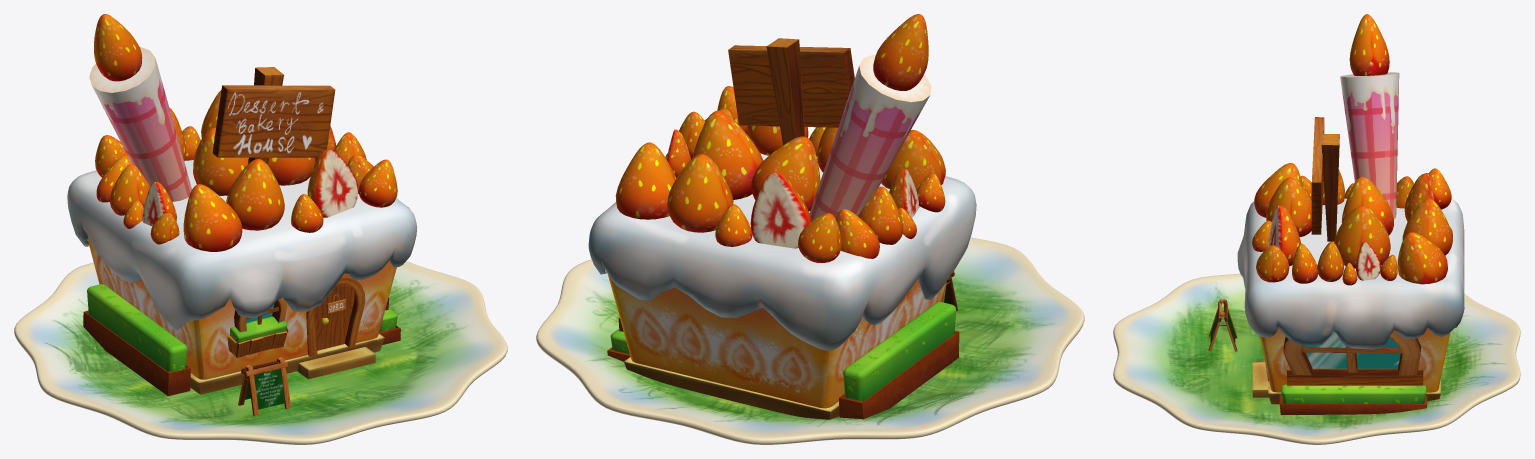
Rendered from mydessertshop.fbx.
3 views of the same model, side by side, from view 1: azimuth 30°, elevation 25°; view 2: azimuth 150°, elevation 25°; view 3: azimuth 270°, elevation 25° (orthographic). The views are drawn at different scales.
Visible parts, largest first — view 1: uv6, uv3, wall, polySurface50, pCylinder5, polySurface108 (×3), pCube26, polySurface104 (×2), polySurface107 (×2), polySurface110 (×3), side1, polySurface115 (+10 smaller); view 2: uv6, uv3, wall, pCylinder5, polySurface50, polySurface104 (×3), polySurface108 (×4), polySurface107 (×4), pCube26, polySurface114, polySurface115, pCube1 (+5 smaller); view 3: uv6, uv3, pCylinder5, polySurface104 (×4), polySurface108 (×3), pCube27, polySurface107 (×3), wall, polySurface114, polySurface86, polySurface115, polySurface47 (+9 smaller).
Part boxes in pixels (x1,y1,x2,y2): uv6: (14, 261, 507, 444); uv3: (67, 160, 417, 330); wall: (87, 237, 396, 379); polySurface50: (212, 85, 335, 157); pCylinder5: (89, 46, 191, 201); polySurface108 (×3): (110, 132, 366, 230); pCube26: (87, 284, 187, 371); polySurface104 (×2): (96, 155, 242, 251); polySurface107 (×2): (142, 149, 358, 226); polySurface110 (×3): (95, 135, 397, 244); side1: (83, 310, 190, 395); polySurface115: (94, 14, 142, 81); uv6: (536, 237, 1084, 444); uv3: (588, 153, 976, 350); wall: (607, 273, 945, 408); pCylinder5: (809, 54, 931, 221); polySurface50: (728, 45, 854, 127); polySurface104 (×3): (615, 129, 945, 258); polySurface108 (×4): (667, 111, 903, 244); polySurface107 (×4): (666, 125, 919, 248); pCube26: (843, 301, 956, 401); polySurface114: (692, 110, 763, 199); polySurface115: (873, 14, 928, 90); pCube1: (624, 357, 839, 419); uv6: (1113, 273, 1520, 444); uv3: (1237, 198, 1464, 349); pCylinder5: (1340, 72, 1399, 219); polySurface104 (×4): (1254, 163, 1447, 284); polySurface108 (×3): (1266, 177, 1452, 281); pCube27: (1281, 384, 1426, 403); polySurface107 (×3): (1268, 173, 1433, 280); wall: (1259, 327, 1450, 392); polySurface114: (1334, 205, 1390, 268); polySurface86: (1287, 368, 1423, 385); polySurface115: (1349, 14, 1389, 75); polySurface47: (1303, 330, 1400, 368).
Size of the model in its own units: 13.18 by 10.52 by 12.67.
